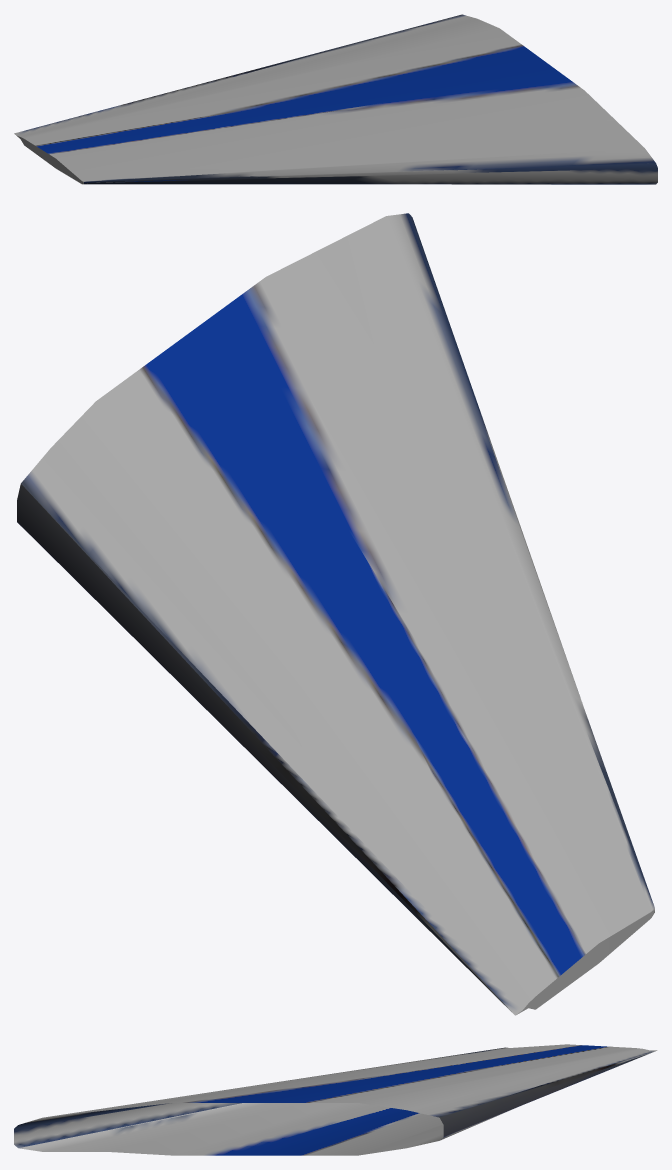
The model's file is player_starfighter_r_wing_only.glb.
3 views of the same model, one above another, from view 1: azimuth 30°, elevation 25°; view 2: azimuth 150°, elevation 25°; view 3: azimuth 270°, elevation 25° (orthographic). The views are drawn at different scales.
Visible parts, largest first — view 1: polymsh_detached5.003; view 2: polymsh_detached5.003; view 3: polymsh_detached5.003.
Boxes of the visible parts, bbox=[...] form: polymsh_detached5.003: bbox=[14, 14, 657, 184]; polymsh_detached5.003: bbox=[17, 213, 654, 1015]; polymsh_detached5.003: bbox=[14, 1044, 657, 1155].
Bounding box in the file's own units: 0.4182 × 0.1446 × 0.6173.
1 material, 1 textured.
